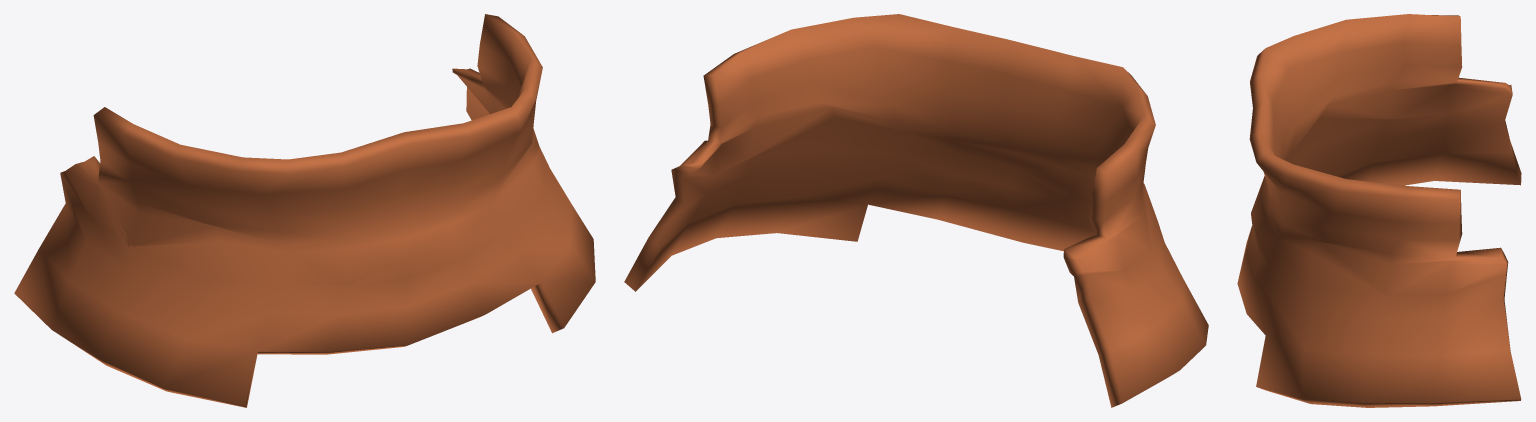
File: Armor_Breastplate_Lower.fbx
The picture shows the model from 3 angles, left to right: view 1: azimuth 30°, elevation 25°; view 2: azimuth 150°, elevation 25°; view 3: azimuth 270°, elevation 25°; orthographic projection. The views are drawn at different scales.
Visible parts, largest first — view 1: Armor_Breastplate_Lower; view 2: Armor_Breastplate_Lower; view 3: Armor_Breastplate_Lower.
Part boxes in pixels (bbox=[...]): Armor_Breastplate_Lower: bbox=[14, 14, 595, 407]; Armor_Breastplate_Lower: bbox=[624, 14, 1208, 407]; Armor_Breastplate_Lower: bbox=[1237, 14, 1521, 407].
Size of the model in its own units: 0.2739 by 0.121 by 0.1401.
